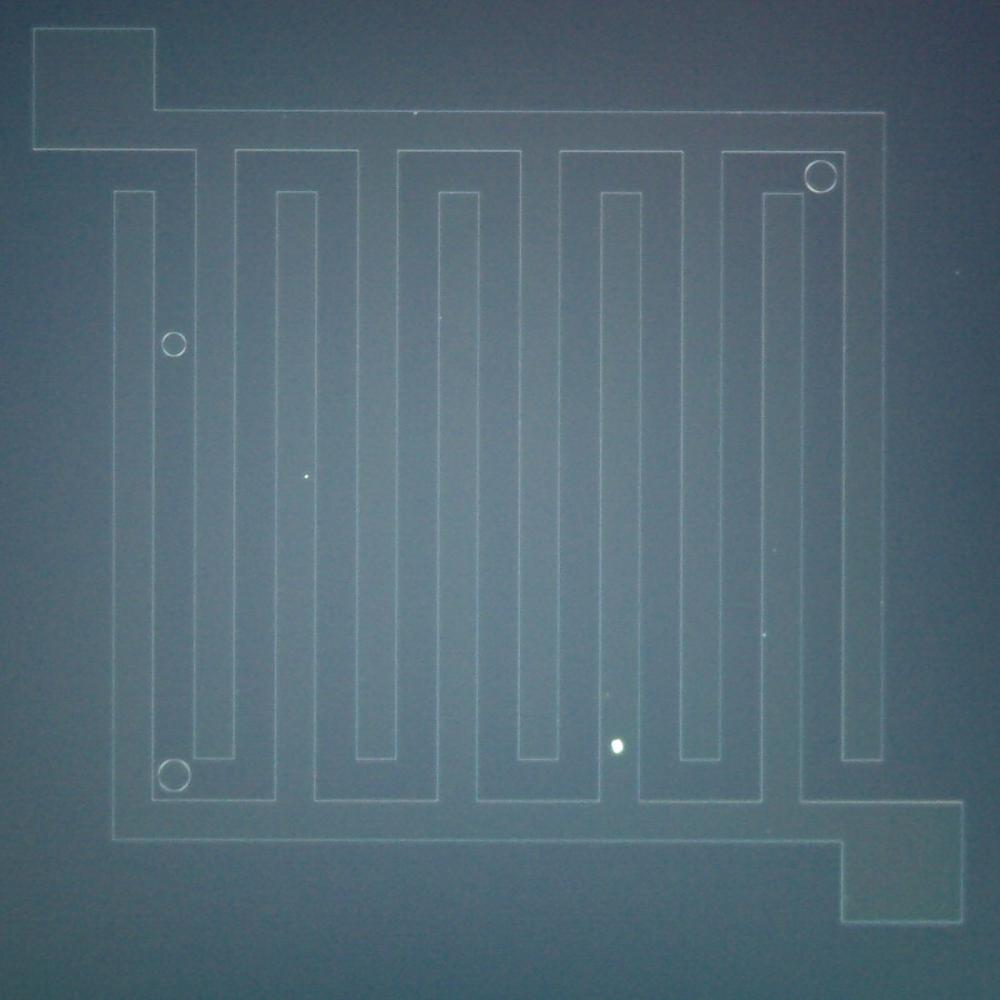dot: (609, 739, 623, 753), (955, 270, 960, 275), (414, 112, 418, 117), (304, 474, 309, 478), (762, 633, 766, 638)
